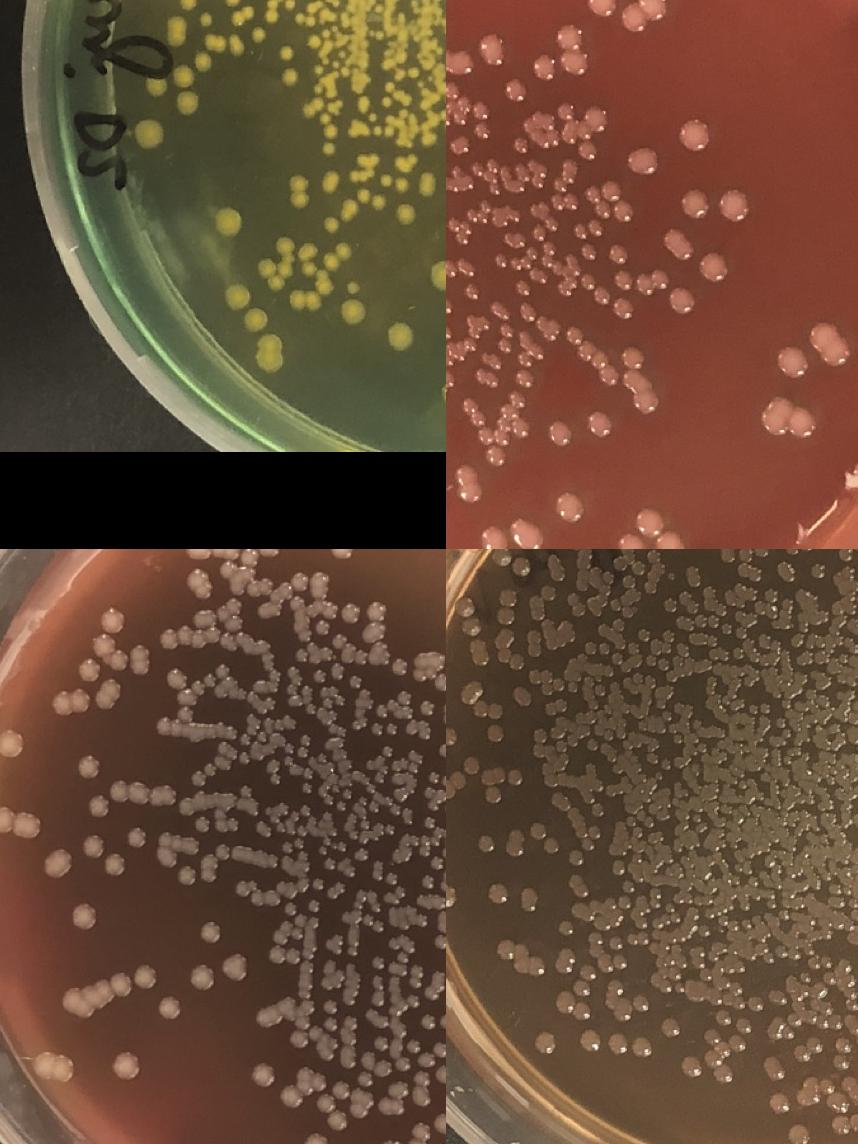assalmonicida: (412, 1040, 446, 1104), (84, 834, 125, 875), (318, 1079, 351, 1129), (342, 599, 387, 624), (157, 623, 198, 649), (111, 1049, 144, 1081), (52, 688, 92, 714), (217, 596, 244, 632), (284, 900, 308, 938), (132, 960, 160, 992), (426, 647, 446, 691), (70, 900, 98, 930), (250, 1060, 278, 1088), (312, 877, 348, 898), (284, 733, 312, 760), (239, 549, 281, 567), (0, 726, 24, 757), (223, 953, 251, 979), (75, 754, 102, 780), (190, 964, 217, 989), (268, 944, 301, 964), (320, 686, 347, 709), (100, 675, 124, 700), (78, 657, 102, 682), (368, 719, 400, 737), (166, 665, 190, 689), (126, 780, 150, 804), (92, 632, 116, 656), (407, 1121, 431, 1144), (324, 996, 339, 1032), (290, 569, 312, 593), (176, 863, 198, 887), (88, 794, 112, 816), (199, 921, 223, 942), (158, 996, 182, 1017), (388, 1078, 410, 1100), (126, 826, 148, 848), (429, 845, 446, 869), (372, 1057, 392, 1077), (309, 1071, 329, 1091), (435, 1054, 446, 1088), (282, 837, 305, 853), (328, 549, 356, 562), (290, 1028, 308, 1048), (303, 1131, 330, 1144), (372, 858, 386, 882), (418, 698, 436, 716), (394, 1054, 412, 1072), (372, 1034, 390, 1052), (202, 625, 220, 643), (371, 988, 388, 1007), (432, 1110, 446, 1132), (424, 983, 441, 1001), (409, 962, 426, 980), (406, 1036, 423, 1054), (404, 992, 422, 1008), (396, 689, 414, 705), (316, 619, 332, 637), (420, 1012, 435, 1030), (371, 953, 386, 971), (357, 1070, 372, 1088), (418, 874, 436, 888), (382, 822, 400, 836), (308, 896, 322, 913), (426, 769, 442, 783), (434, 933, 446, 951), (422, 815, 436, 829), (350, 674, 364, 688), (323, 856, 337, 870), (312, 668, 326, 682), (227, 817, 241, 831), (266, 757, 280, 770), (439, 867, 446, 892), (304, 703, 318, 715), (276, 880, 290, 892), (436, 743, 446, 759), (204, 763, 217, 775), (204, 674, 217, 686), (316, 751, 328, 763), (304, 767, 316, 779), (302, 781, 314, 793), (301, 684, 313, 696), (300, 804, 312, 816), (296, 648, 308, 660), (286, 682, 298, 694), (286, 666, 298, 678), (269, 773, 281, 785), (257, 730, 269, 742), (439, 1011, 446, 1031), (240, 751, 251, 763), (240, 732, 251, 744), (442, 801, 446, 830)
pddamselae: (493, 201, 561, 272), (539, 104, 609, 162), (574, 180, 636, 239), (564, 324, 618, 385), (446, 157, 501, 216), (476, 391, 532, 444), (513, 330, 546, 390), (554, 20, 589, 74), (809, 322, 849, 366), (446, 207, 490, 247), (760, 404, 816, 435), (621, 0, 666, 30), (550, 166, 580, 210), (446, 81, 472, 127), (664, 227, 697, 261), (510, 164, 546, 194), (580, 272, 611, 304), (456, 464, 481, 502), (635, 506, 663, 536), (632, 386, 660, 416), (628, 144, 656, 174), (446, 46, 476, 74), (636, 268, 670, 292), (586, 408, 614, 437), (778, 346, 806, 374), (699, 252, 727, 280), (681, 118, 709, 146), (680, 188, 708, 216), (668, 286, 696, 314), (556, 493, 584, 521), (547, 418, 575, 446), (481, 32, 509, 60), (461, 396, 487, 425), (720, 188, 746, 216), (513, 523, 541, 549), (495, 320, 516, 354), (481, 525, 509, 549), (446, 259, 478, 278), (621, 346, 645, 370), (611, 294, 635, 318), (606, 242, 630, 266), (504, 77, 527, 102), (474, 366, 501, 386), (655, 530, 683, 549), (450, 132, 472, 156), (616, 534, 644, 549), (612, 270, 632, 290), (474, 98, 494, 118), (465, 280, 485, 300), (557, 102, 577, 121), (472, 121, 492, 140), (513, 278, 532, 296), (589, 0, 617, 12), (578, 240, 596, 258), (536, 56, 554, 74), (518, 303, 536, 321), (512, 135, 530, 153), (486, 447, 504, 465), (543, 320, 561, 336), (508, 206, 524, 224), (462, 335, 478, 353), (446, 356, 455, 385), (568, 261, 582, 277), (446, 295, 457, 314), (487, 182, 501, 196), (446, 322, 454, 342)
vangil: (702, 1016, 752, 1082), (797, 1076, 858, 1112), (674, 603, 734, 635), (459, 680, 506, 720), (497, 940, 546, 976), (528, 668, 580, 698), (568, 825, 603, 867), (495, 628, 528, 670), (829, 1106, 858, 1144), (491, 549, 531, 576), (454, 596, 481, 636), (582, 640, 624, 664), (556, 991, 592, 1019), (644, 654, 678, 683), (762, 944, 802, 965), (496, 587, 518, 624), (574, 963, 597, 996), (794, 1036, 823, 1062), (827, 720, 847, 752), (567, 872, 591, 898), (834, 1036, 852, 1070), (763, 1056, 786, 1082), (763, 585, 781, 618), (554, 947, 576, 973), (446, 771, 467, 798), (469, 638, 489, 666), (506, 829, 526, 856), (737, 561, 763, 581), (566, 591, 586, 617), (446, 725, 459, 761), (554, 733, 578, 752), (777, 560, 797, 582), (462, 754, 483, 774), (789, 1124, 809, 1144), (770, 1092, 790, 1112), (661, 1017, 681, 1037), (580, 1030, 600, 1050), (512, 685, 532, 705), (486, 722, 506, 742), (684, 565, 702, 587), (528, 630, 542, 658), (544, 699, 567, 716), (506, 766, 525, 786), (708, 942, 725, 964), (681, 1056, 701, 1074), (634, 1038, 652, 1058), (720, 688, 739, 706), (610, 1034, 629, 1052), (608, 932, 626, 951), (539, 583, 557, 602), (521, 885, 539, 904), (809, 561, 827, 579), (748, 994, 766, 1012), (716, 1008, 734, 1026), (632, 994, 650, 1012), (610, 953, 628, 971), (557, 920, 575, 938), (549, 563, 567, 581), (544, 835, 562, 853), (485, 785, 503, 803), (478, 834, 496, 852), (692, 945, 706, 968), (827, 1013, 845, 1030), (768, 988, 786, 1005), (746, 702, 770, 714), (530, 822, 548, 838), (756, 716, 770, 736), (736, 776, 756, 790), (725, 960, 748, 972), (692, 893, 714, 905), (836, 549, 854, 563), (719, 549, 737, 563), (783, 549, 815, 556), (816, 694, 830, 708), (806, 956, 820, 970), (782, 1026, 796, 1040), (735, 626, 749, 640), (731, 646, 745, 660), (699, 968, 713, 982), (678, 590, 692, 604), (674, 955, 688, 969), (670, 910, 684, 924), (663, 597, 677, 611), (662, 628, 676, 642), (660, 757, 674, 771), (631, 560, 645, 574), (624, 813, 638, 827), (622, 574, 636, 588), (610, 618, 624, 632), (608, 597, 622, 611), (604, 783, 618, 797), (592, 803, 606, 817), (584, 737, 598, 751), (582, 761, 596, 775), (532, 606, 546, 620), (790, 634, 804, 647), (756, 634, 770, 647), (706, 634, 720, 647), (638, 627, 652, 640), (544, 773, 558, 786), (816, 833, 830, 845), (774, 716, 788, 728), (748, 889, 762, 901), (742, 674, 756, 686), (738, 900, 752, 912), (702, 907, 716, 919), (698, 923, 710, 937), (828, 883, 840, 895), (815, 800, 827, 812), (814, 651, 826, 663), (805, 687, 817, 699), (796, 653, 808, 665), (780, 697, 792, 709), (766, 899, 778, 911), (760, 770, 772, 782), (748, 874, 760, 886), (732, 861, 744, 873), (730, 983, 742, 995), (719, 977, 731, 989), (687, 907, 699, 919), (673, 892, 685, 904), (672, 841, 684, 853), (835, 688, 846, 700), (780, 908, 791, 920), (752, 549, 770, 556)
vharveyi: (288, 276, 334, 310), (172, 51, 214, 87), (256, 256, 296, 293), (256, 332, 284, 372), (384, 321, 416, 353), (214, 205, 246, 235), (132, 118, 164, 148), (322, 241, 353, 271), (339, 296, 367, 326), (381, 80, 413, 106), (288, 173, 311, 209), (223, 280, 251, 308), (264, 0, 296, 23), (300, 241, 320, 277), (378, 172, 410, 194), (356, 186, 388, 208), (174, 90, 200, 116), (242, 306, 268, 331), (428, 258, 446, 291), (231, 4, 257, 26), (322, 123, 339, 155), (279, 66, 299, 86), (276, 234, 296, 254), (294, 12, 317, 27), (371, 124, 395, 138), (395, 65, 419, 78), (278, 43, 296, 59), (250, 26, 268, 42), (199, 11, 214, 27), (324, 216, 338, 232), (346, 280, 360, 294), (180, 0, 198, 10), (356, 153, 368, 165), (313, 64, 325, 76)
